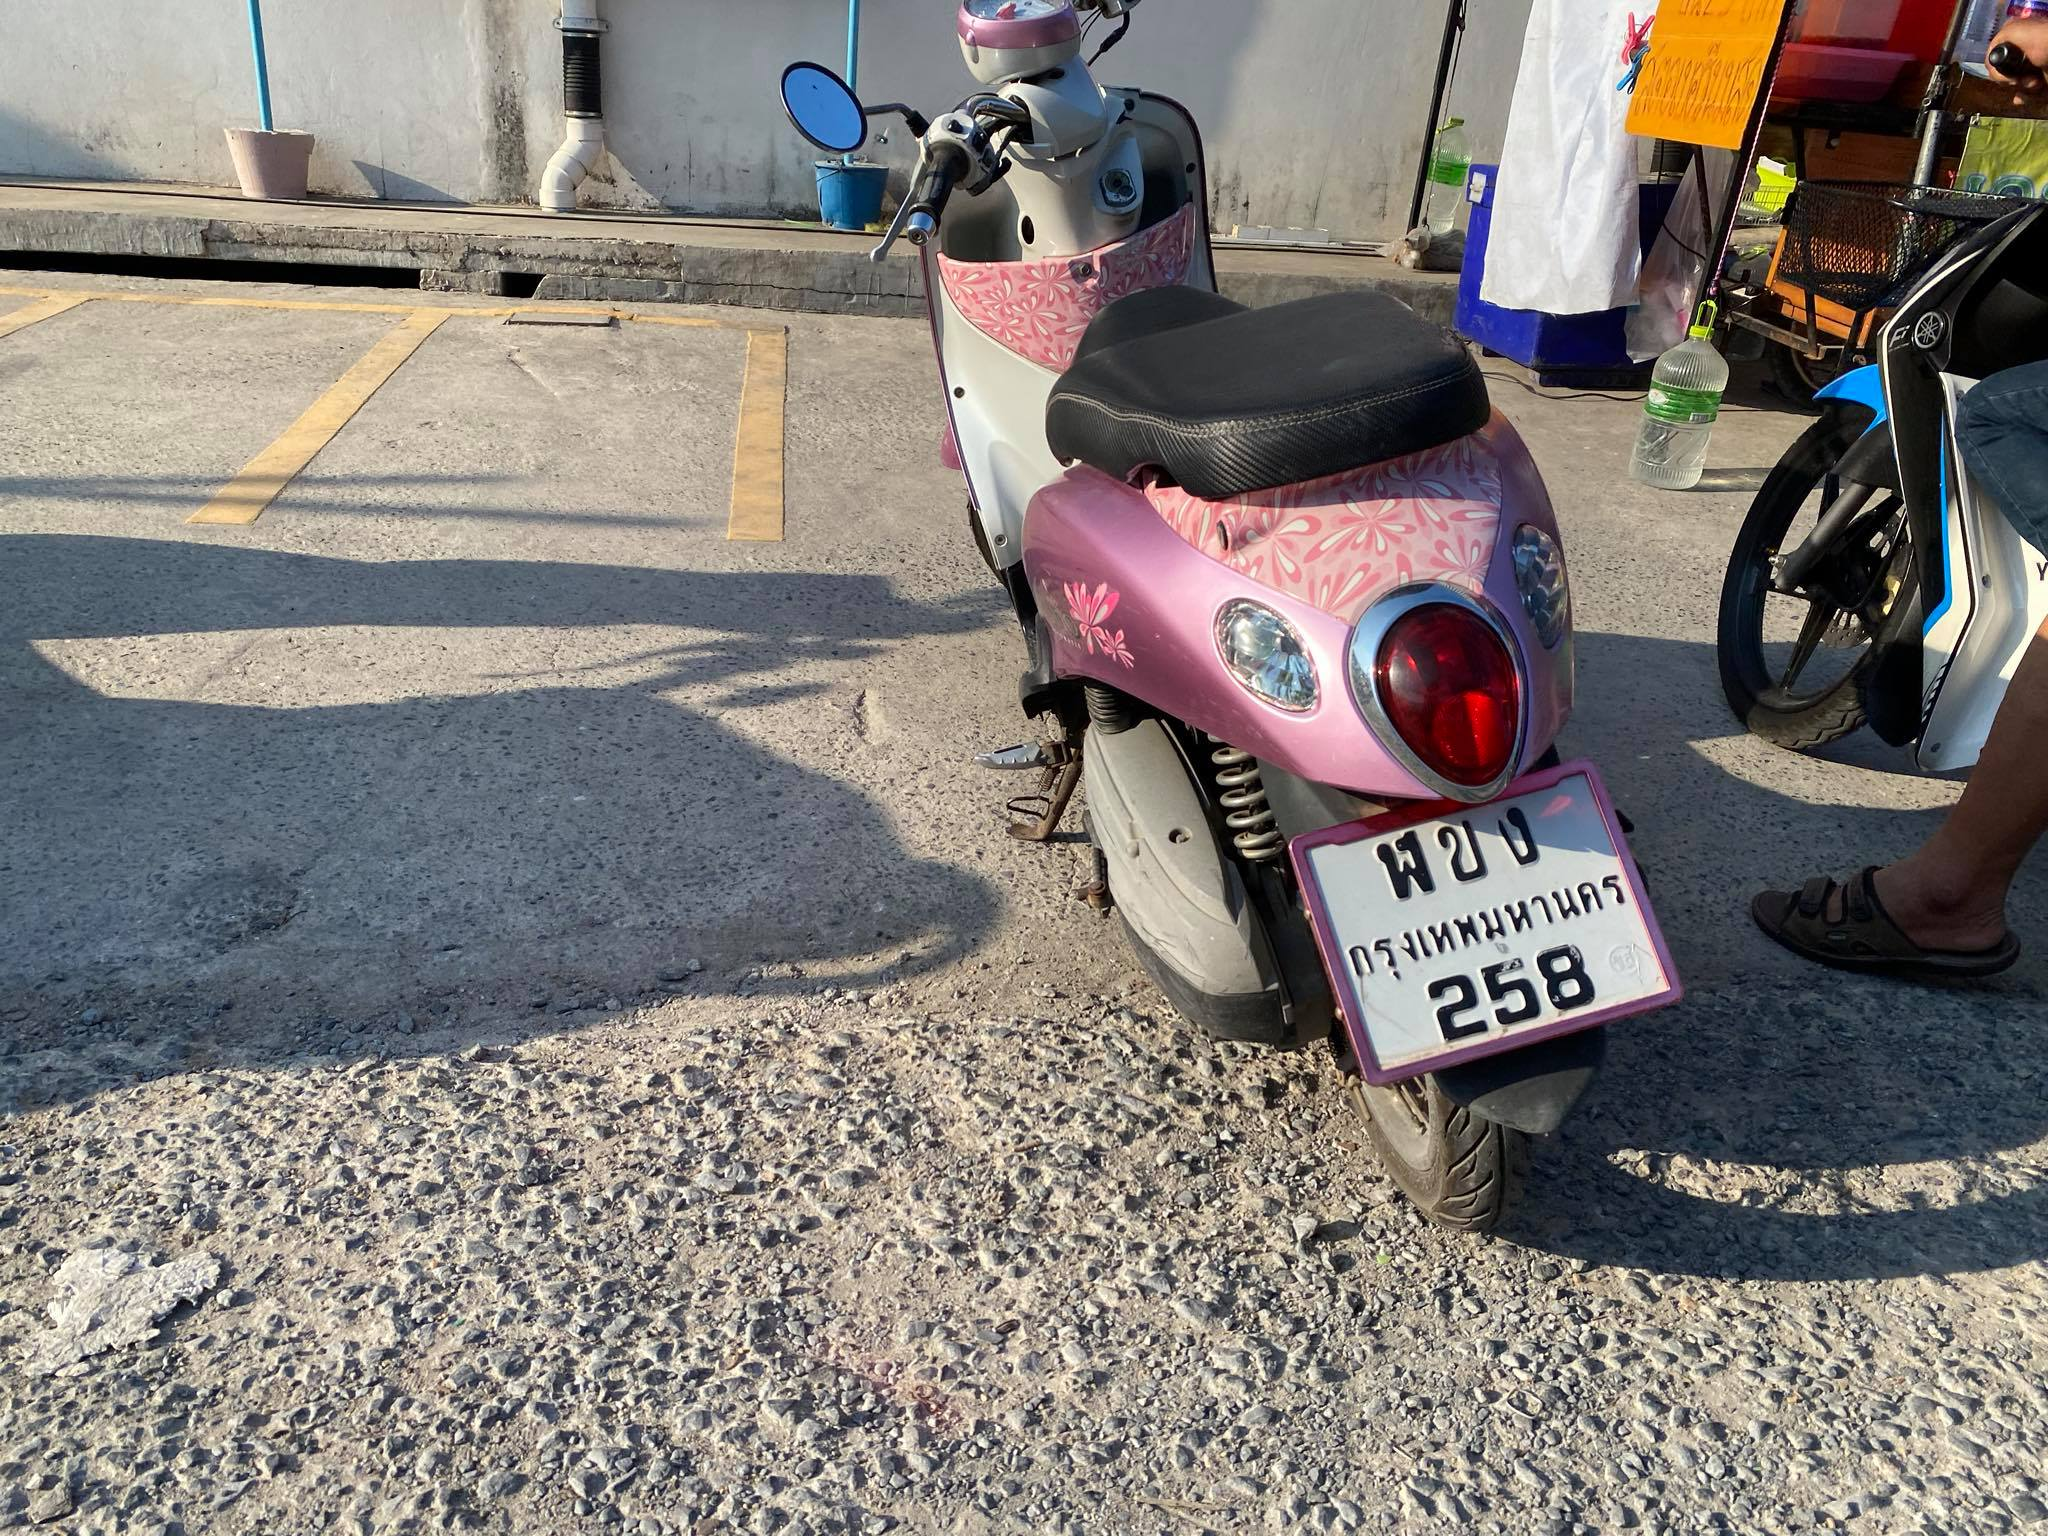line1: (1369, 803, 1553, 899)
line2: (1338, 874, 1646, 975)
line3: (1413, 957, 1621, 1047)
